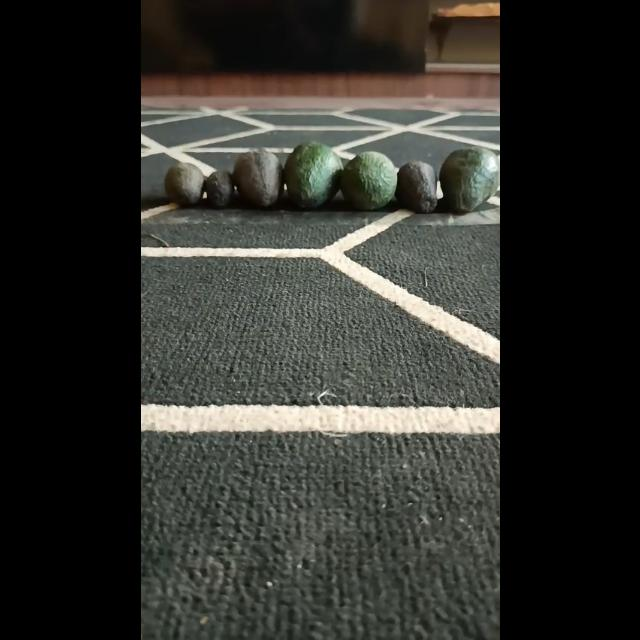Primera: (282, 141, 342, 209), (438, 148, 497, 215), (338, 150, 398, 210), (232, 150, 282, 208)
Segunda: (394, 160, 438, 213), (163, 161, 204, 207)
Tercera: (202, 170, 234, 208)
